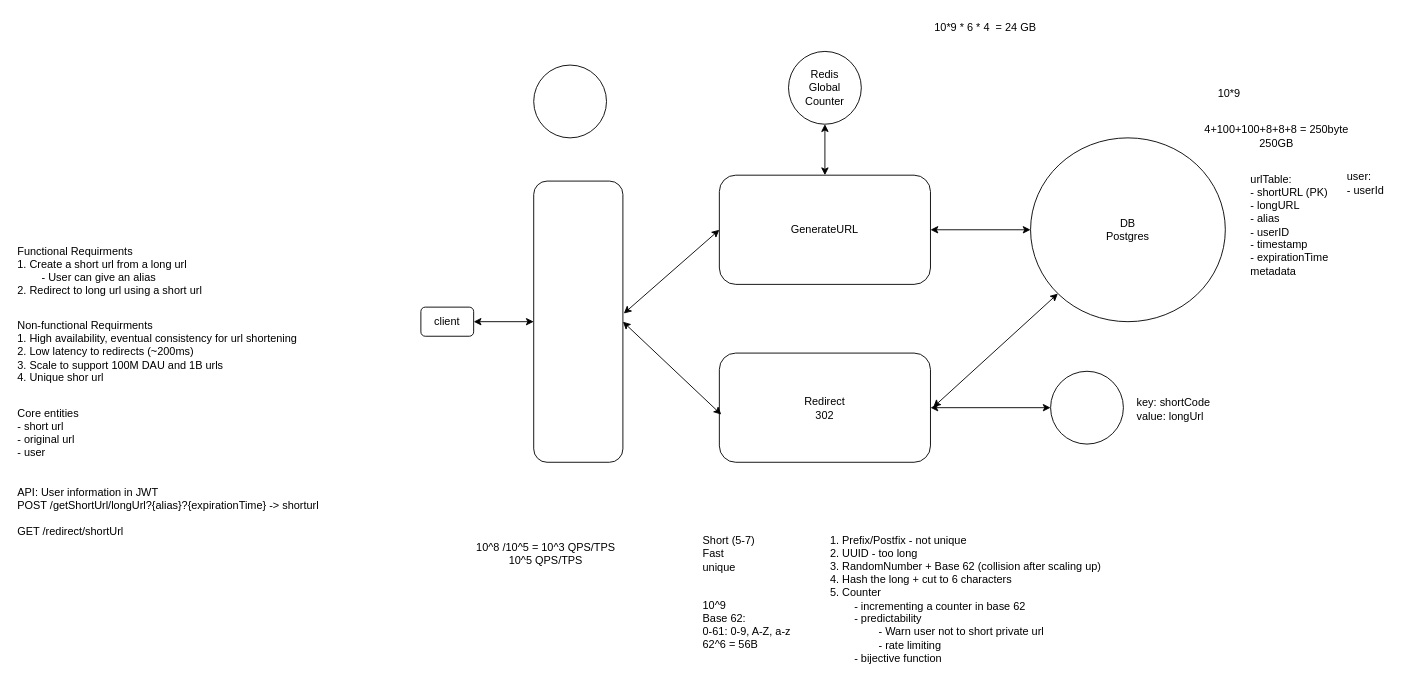
Image size: 1414x685. Some labels were removed from this diagram. Each missing label, with the centre of its shape:
"API Gateway 1. Routing 2. load balancer 3. rate limiting 4. User Authentictaion" belongs at point 578,321.
"CDN (not get to server, same as 301)" belongs at point 570,101.
"Redis Cache" belongs at point 1086,407.
